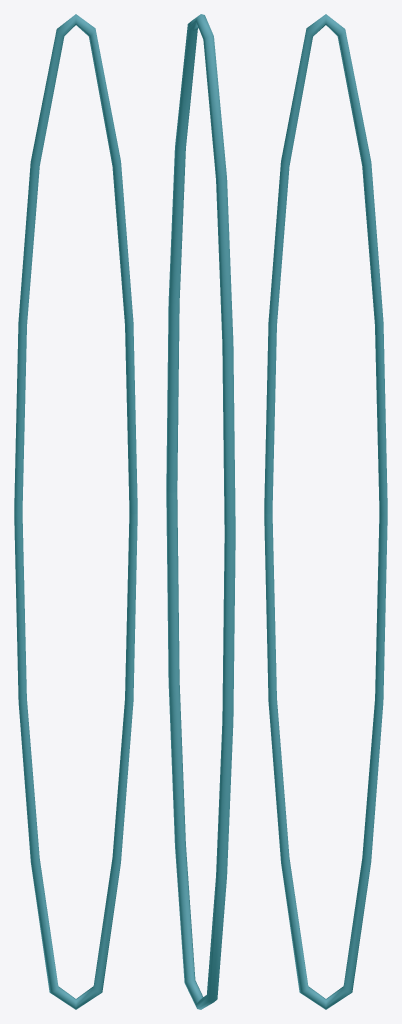
File: pinata_chain.glb
The picture shows the model from 3 angles, left to right: view 1: azimuth 90°, elevation 25°; view 2: azimuth 210°, elevation 25°; view 3: azimuth 270°, elevation 25°; orthographic projection.
Visible parts, largest first — view 1: Torus.001; view 2: Torus.001; view 3: Torus.001.
Part boxes in pixels (box(x1,y1,x2,y2)): Torus.001: box(14, 14, 137, 1009); Torus.001: box(166, 14, 235, 1009); Torus.001: box(264, 14, 387, 1009).
Size of the model in its own units: 0.0195 by 1.9 by 0.2137.
Materials: 1 (1 with a texture image).
